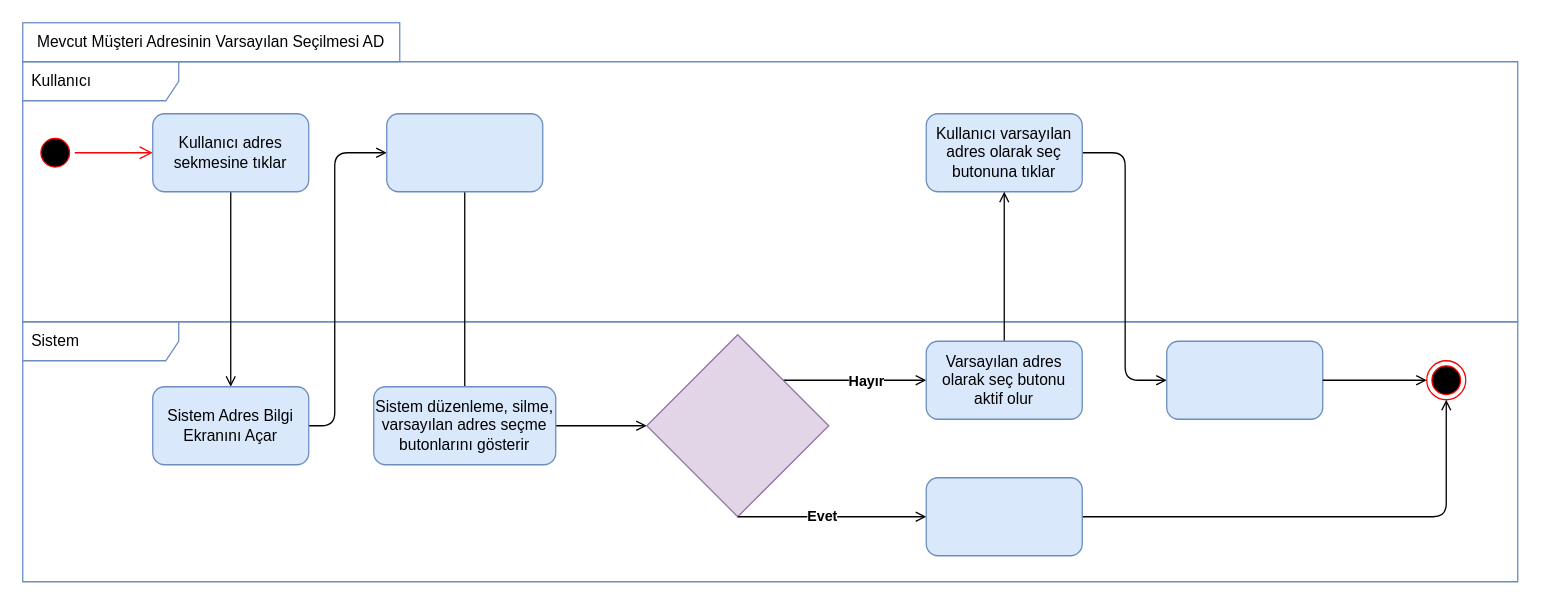
Image size: 1541x605. Some labels were removed from this diagram. The centre of each missing label's shape, as x and y in pixels:
Kullanıcı üç nokta ikonuna tıklar: (464,152)
Seçilen adres varsayılan adres mi?: (737,425)
Sistem, adresi varsayılan olarak kaydeder: (1244,379)
Varsayılan adres olarak seç butonu inaktif olur: (1003,516)
